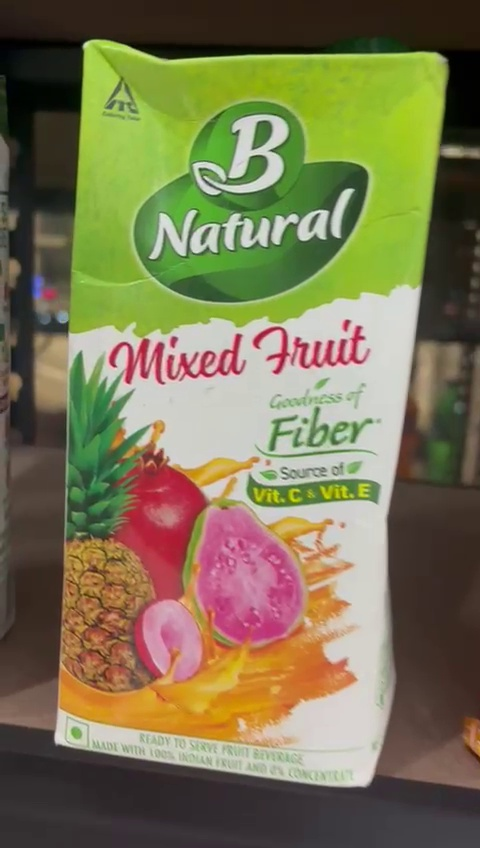Mixed Fruit: (54, 35, 444, 764)
